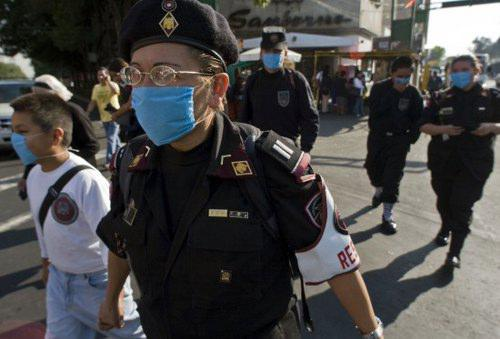NONE: (99, 72, 108, 83)
OK: (120, 58, 203, 141), (12, 123, 54, 169), (262, 49, 287, 71), (453, 66, 475, 88), (394, 71, 412, 89)
